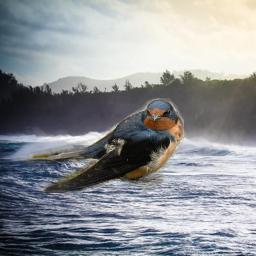Swallow: (13, 98, 184, 193)
